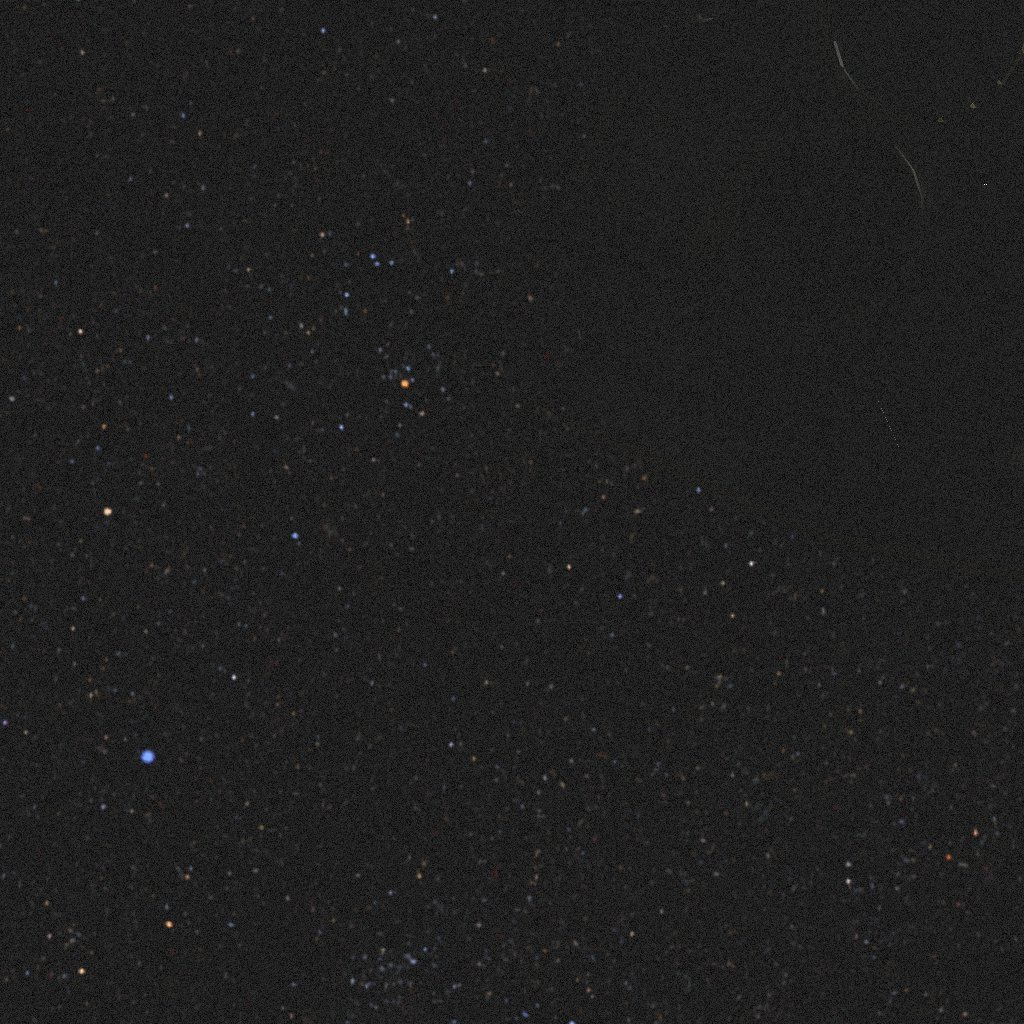cheops: (507, 0, 1024, 581)
